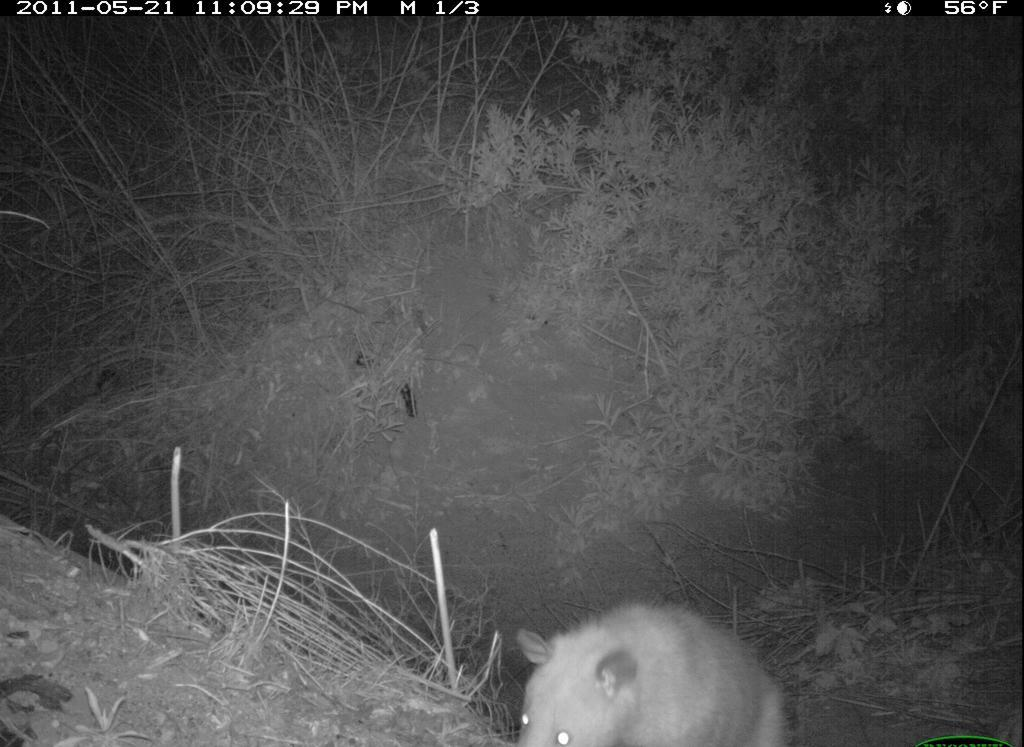opossum: (516, 596, 789, 747)
